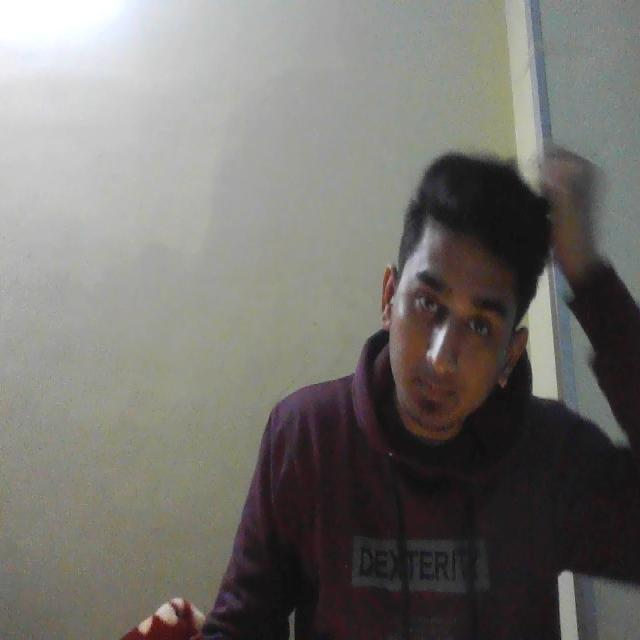real: (378, 175, 528, 457)
